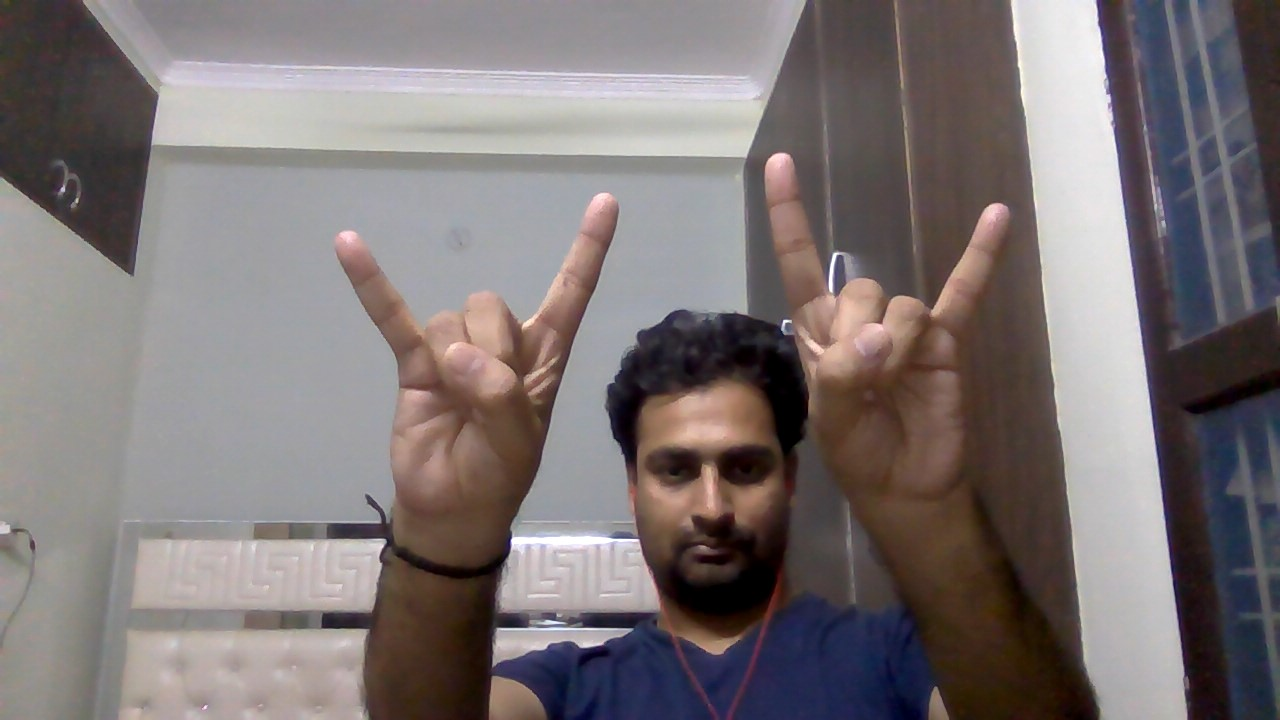Select All: (329, 184, 626, 528), (751, 148, 1021, 519)
